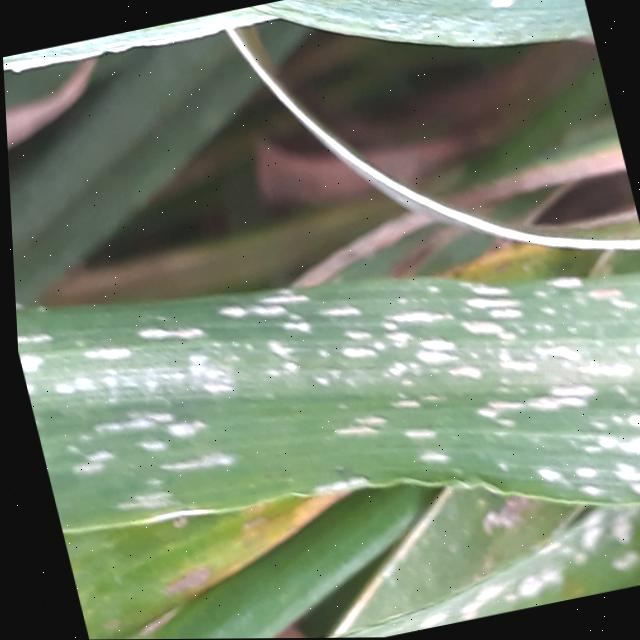powder_mildew: (7, 160, 640, 640), (178, 0, 622, 228), (1, 24, 186, 163)
